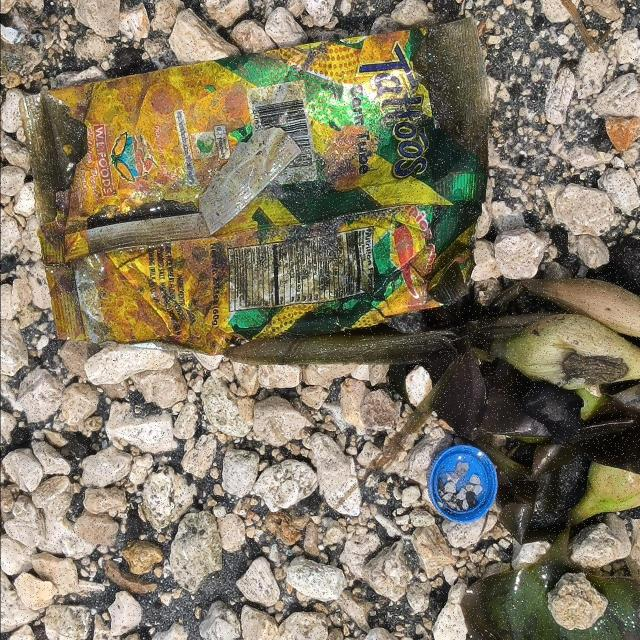plastic_waste: (17, 14, 495, 359), (426, 444, 500, 526)
